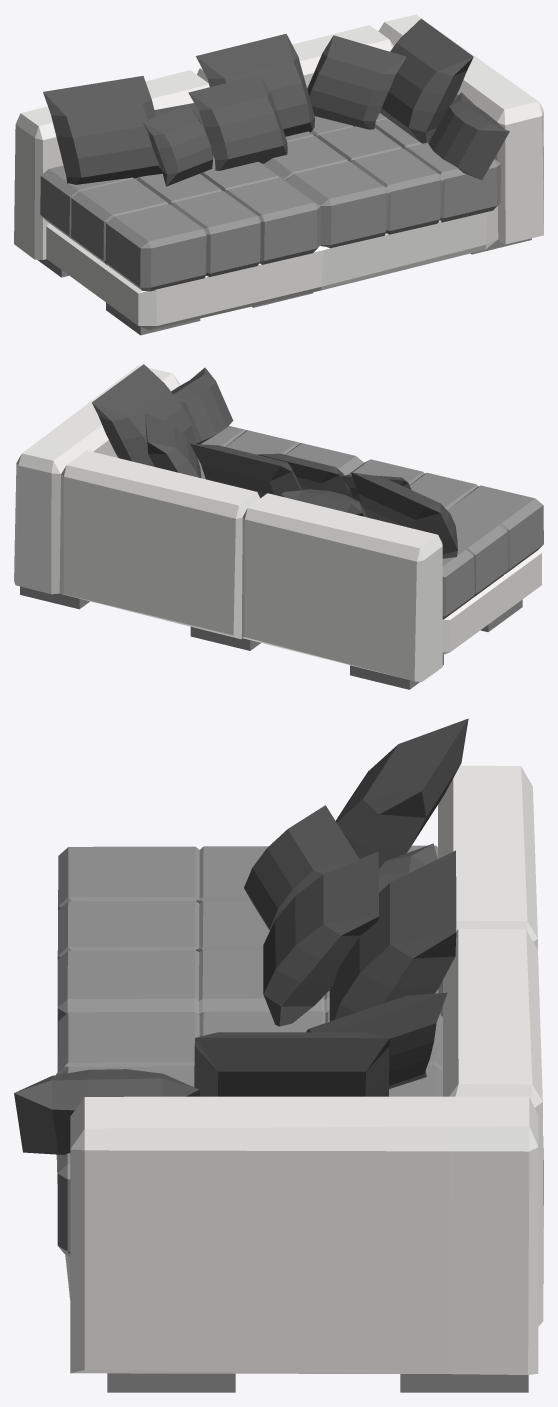
File: Couch_3.fbx
3 views of the same model, one above another, from view 1: azimuth 30°, elevation 25°; view 2: azimuth 150°, elevation 25°; view 3: azimuth 270°, elevation 25° (orthographic). The views are drawn at different scales.
Parts seen in each view (by area): view 1: Couch_3; view 2: Couch_3; view 3: Couch_3.
Part boxes in pixels (<box>): Couch_3: <box>14,14,543,335</box>; Couch_3: <box>14,364,543,689</box>; Couch_3: <box>14,718,543,1392</box>.
Size of the model in its own units: 318 by 192 by 131.
